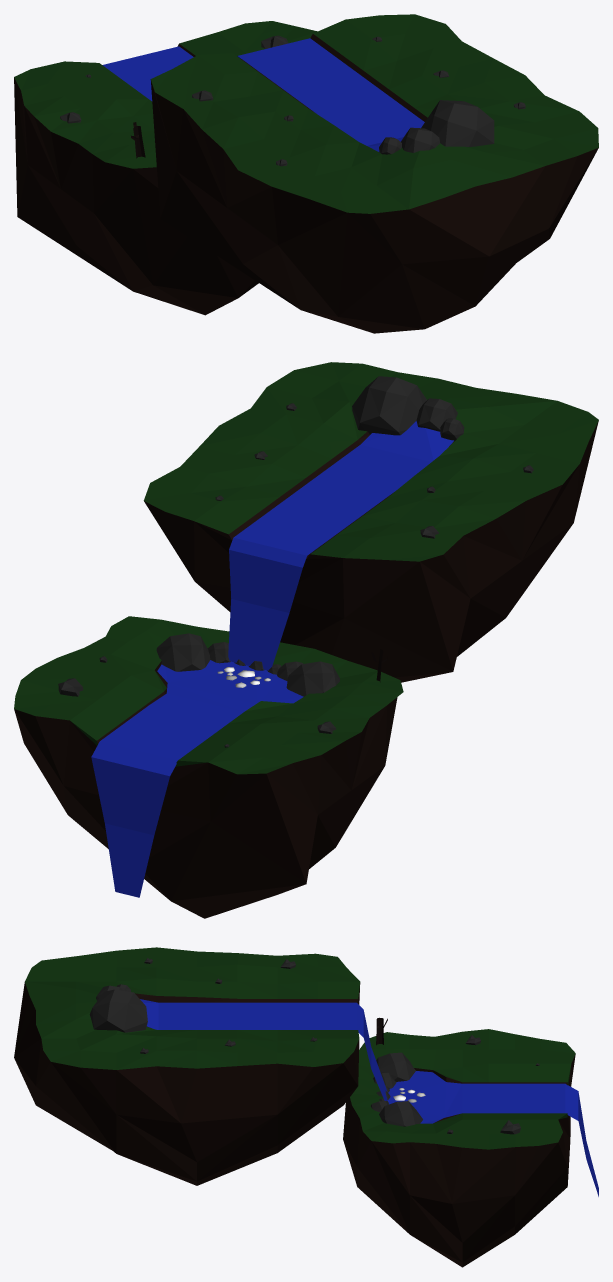
The model's file is island_forest.obj.
The picture shows the model from 3 angles, top to bottom: view 1: azimuth 30°, elevation 25°; view 2: azimuth 150°, elevation 25°; view 3: azimuth 270°, elevation 25°; orthographic projection. The views are drawn at different scales.
Parts seen in each view (by area): view 1: Icosphere, Cube.001; view 2: Icosphere, Cube.001; view 3: Icosphere, Cube.001.
Part boxes in pixels (x1=…): Icosphere: x1=14, y1=14, x2=598, y2=333; Cube.001: x1=60, y1=35, x2=525, y2=166; Icosphere: x1=14, y1=362, x2=598, y2=918; Cube.001: x1=58, y1=376, x2=533, y2=747; Icosphere: x1=14, y1=947, x2=598, y2=1267; Cube.001: x1=89, y1=958, x2=539, y2=1134.
Size of the model in its own units: 13.2 by 14.18 by 25.94.
